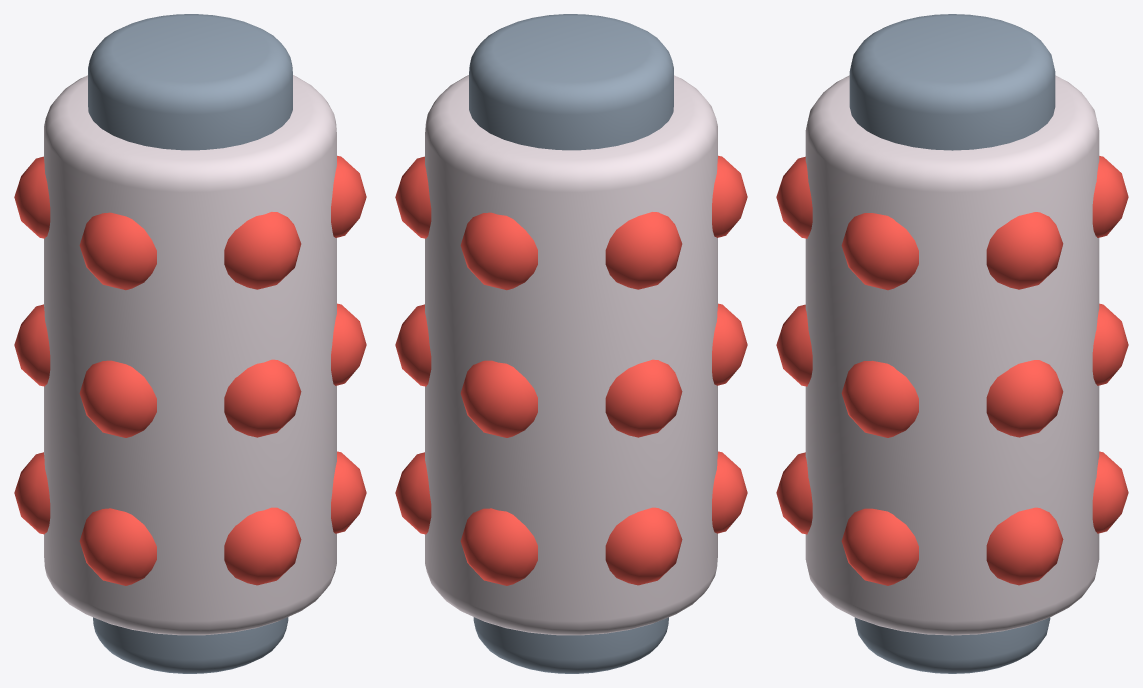
The model's file is Grinder01.fbx.
The picture shows the model from 3 angles, left to right: view 1: azimuth 30°, elevation 25°; view 2: azimuth 150°, elevation 25°; view 3: azimuth 270°, elevation 25°; orthographic projection.
Parts seen in each view (by area): view 1: Grinder; view 2: Grinder; view 3: Grinder.
Part boxes in pixels (x1,y1,x2,y2): Grinder: (14, 14, 366, 673); Grinder: (395, 14, 747, 673); Grinder: (776, 14, 1128, 673).
Size of the model in its own units: 122 by 250 by 135.
